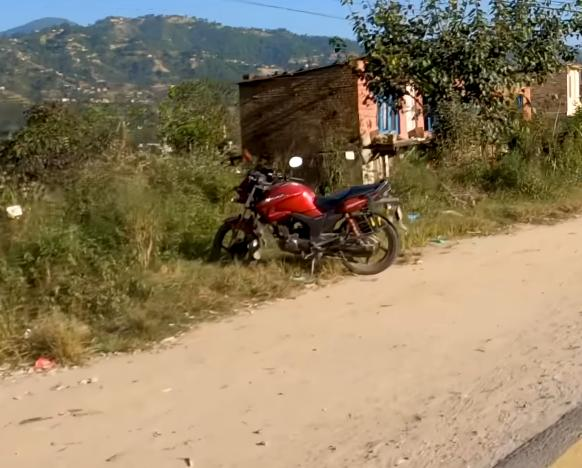bike: (215, 153, 406, 289)
